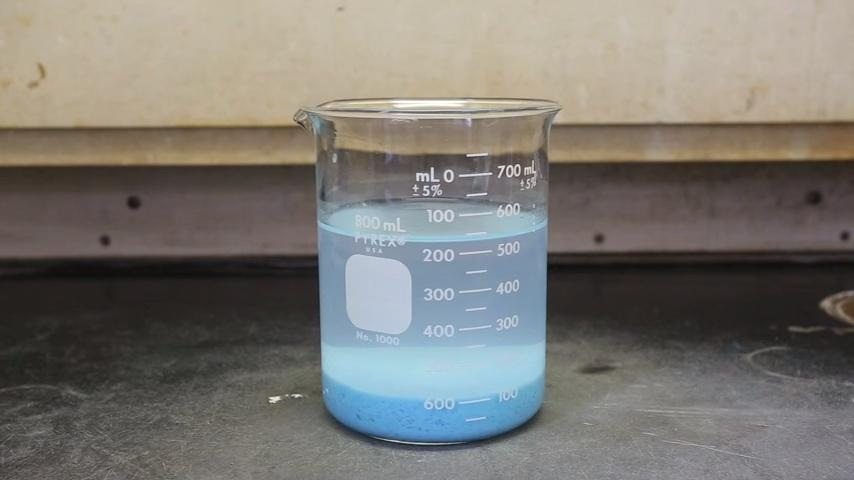Beaker: (290, 90, 559, 448)
